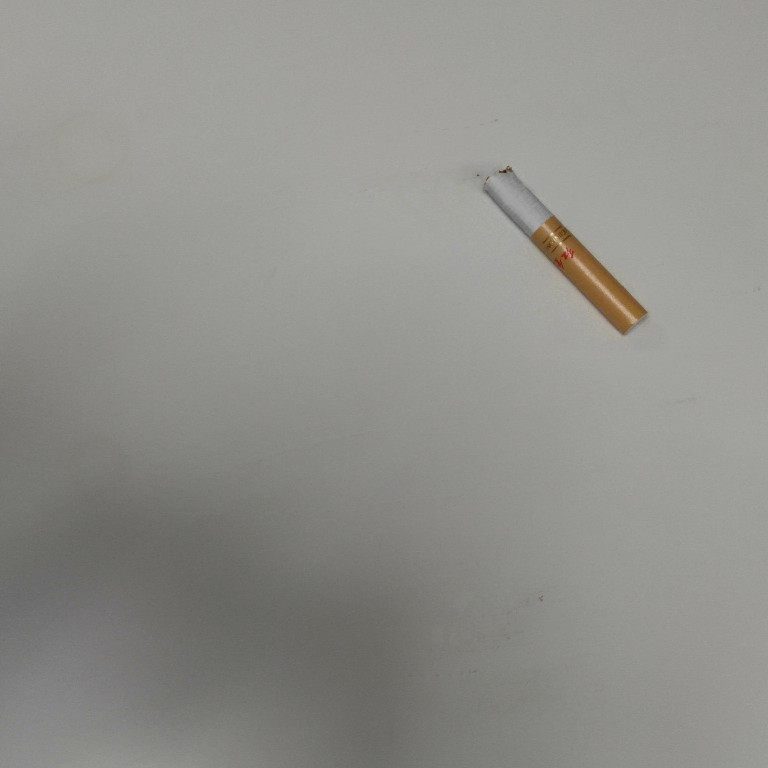cigarette: (481, 163, 651, 340)
